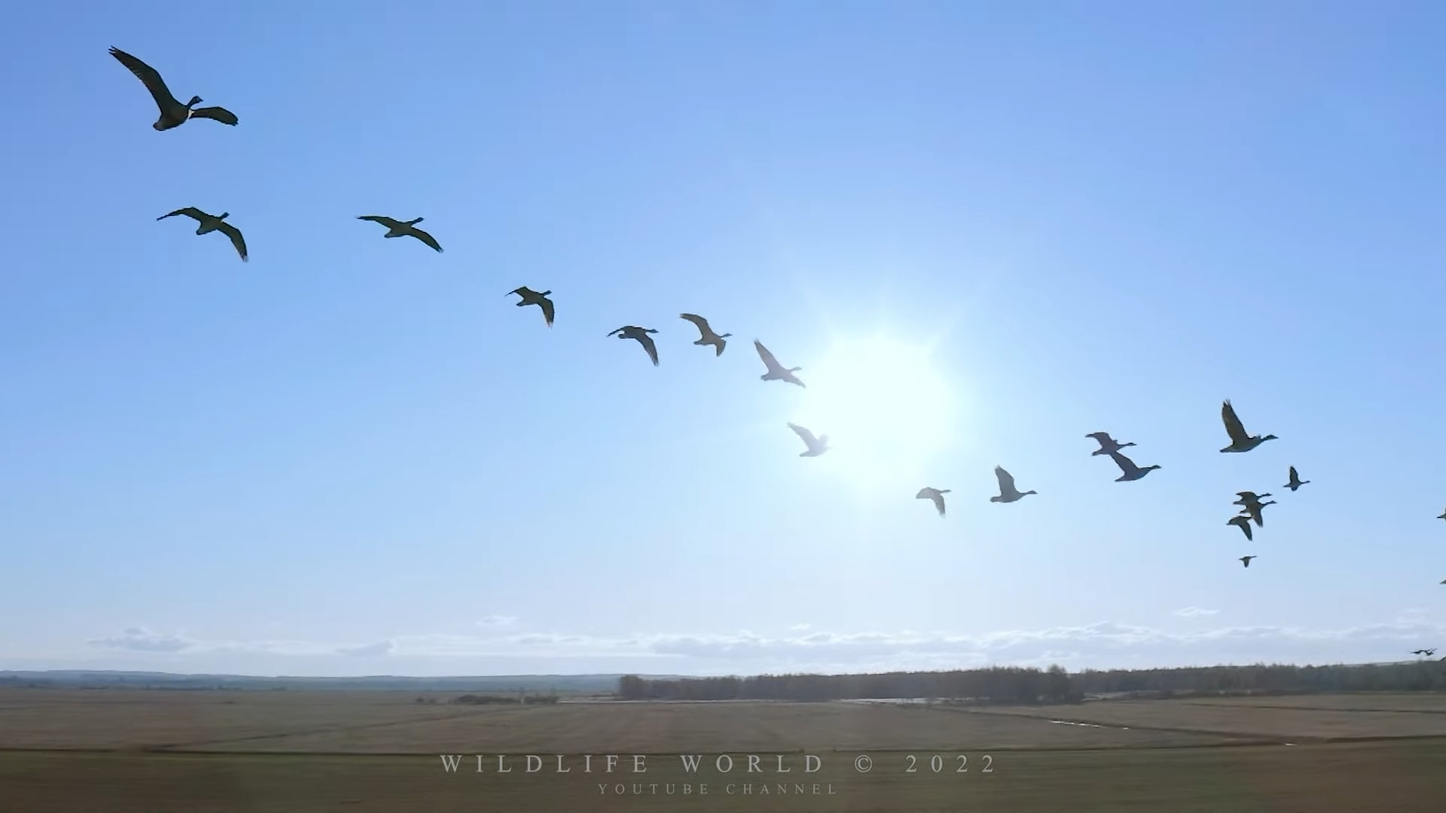not_drone: (108, 46, 245, 140), (157, 202, 256, 265), (1211, 397, 1290, 464), (351, 207, 451, 259), (674, 307, 741, 362), (755, 332, 807, 396), (605, 317, 670, 368), (983, 465, 1040, 511), (509, 285, 564, 330), (786, 416, 835, 462), (1230, 486, 1278, 529), (1081, 424, 1137, 458), (1108, 456, 1170, 486), (912, 484, 959, 521), (1217, 510, 1260, 545), (1283, 461, 1314, 497), (1241, 552, 1266, 575)
